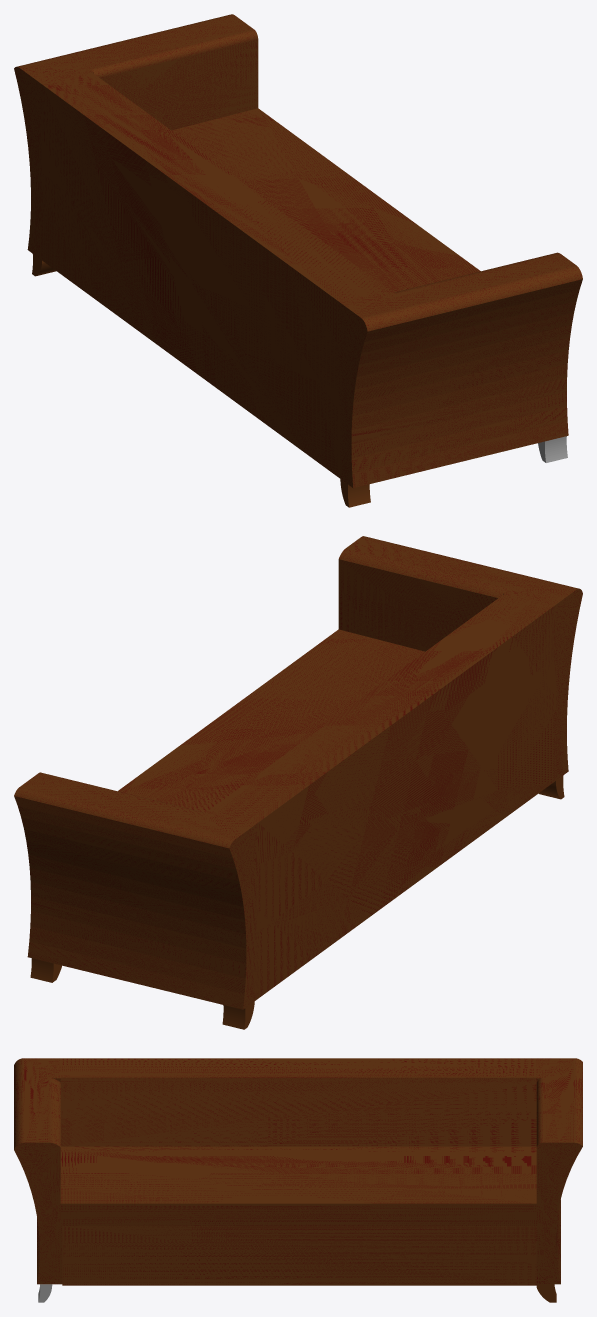
Rendered from sofa.obj.
3 renders of one model, top to bottom at view 1: azimuth 30°, elevation 25°; view 2: azimuth 150°, elevation 25°; view 3: azimuth 270°, elevation 25°, orthographic. The views are drawn at different scales.
Size of the model in its own units: 0.6654 by 0.5783 by 1.86.
